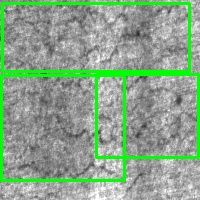crazing: (1, 75, 124, 180), (2, 3, 189, 71), (96, 75, 198, 157)
